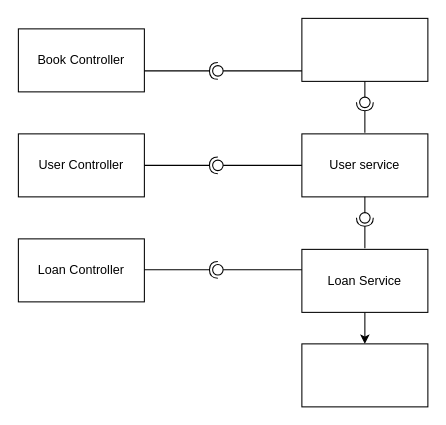
Some shapes in this 446 by 425 pixel diagram are drawn without their labels. The shapes that lost their labels are listed below. From the top down, each one's centre as x and y in pixels, then its label:
point (364, 49): Book Service
point (364, 375): Validator
